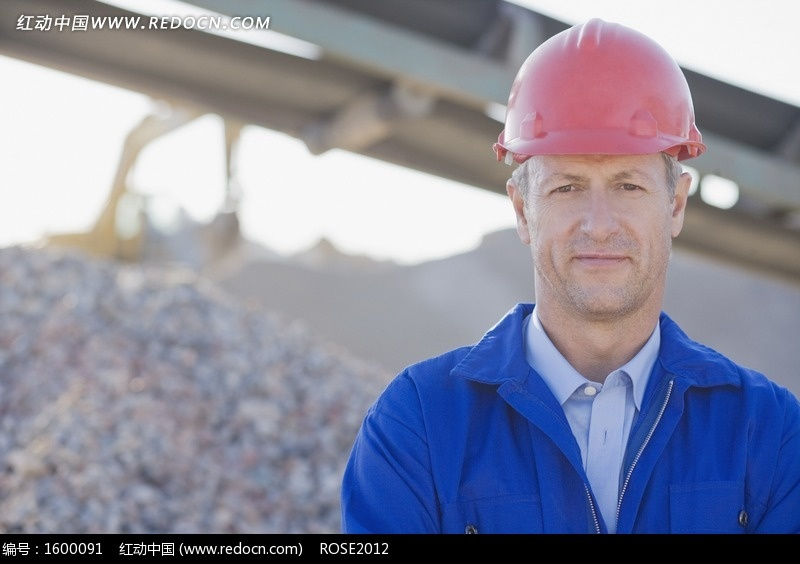red: (505, 22, 690, 324)
